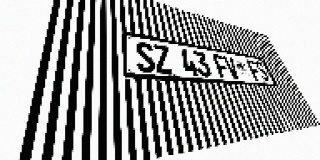3: (192, 50, 213, 77)
4: (179, 48, 200, 76)
F: (212, 54, 231, 79), (246, 59, 264, 81)
S: (135, 41, 157, 73), (254, 61, 271, 81)
V: (222, 55, 241, 79)
Z: (152, 44, 174, 74)
